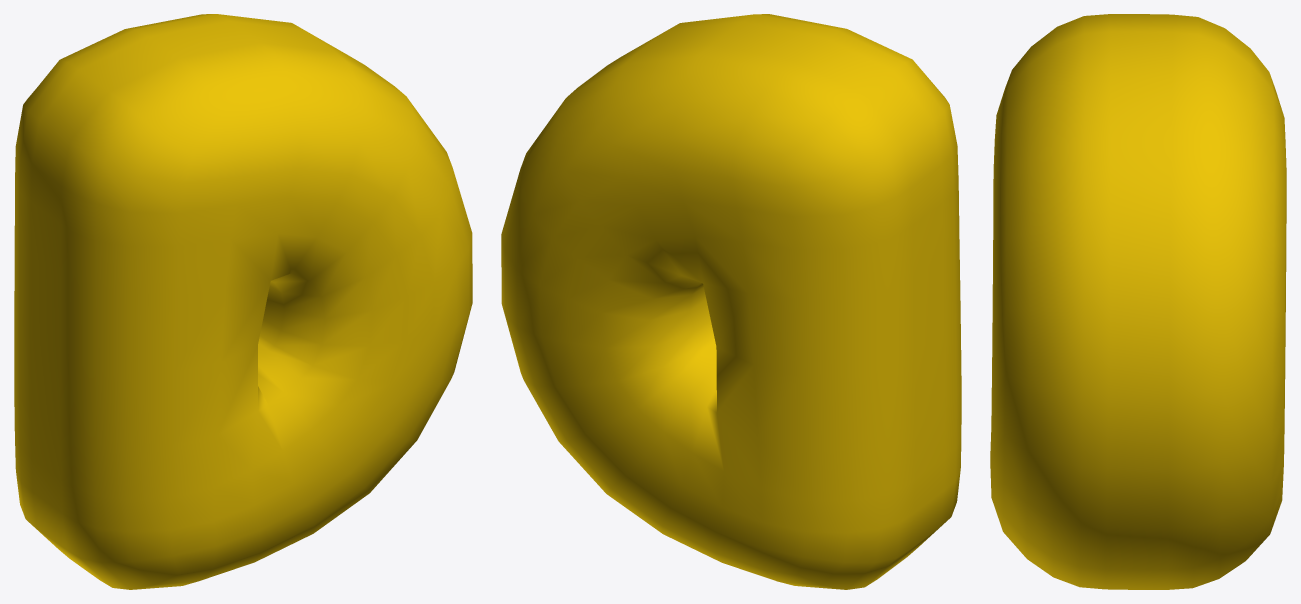
The picture shows the model from 3 angles, left to right: view 1: azimuth 30°, elevation 25°; view 2: azimuth 150°, elevation 25°; view 3: azimuth 270°, elevation 25°; orthographic projection. The views are drawn at different scales.
Parts seen in each view (by area): view 1: Object_14; view 2: Object_14; view 3: Object_14.
Boxes of the visible parts, x1,y1,x2,y2 form: Object_14: (14, 14, 472, 589); Object_14: (501, 14, 961, 589); Object_14: (990, 14, 1286, 589).
Size of the model in its own units: 78.81 by 96.98 by 49.89.
